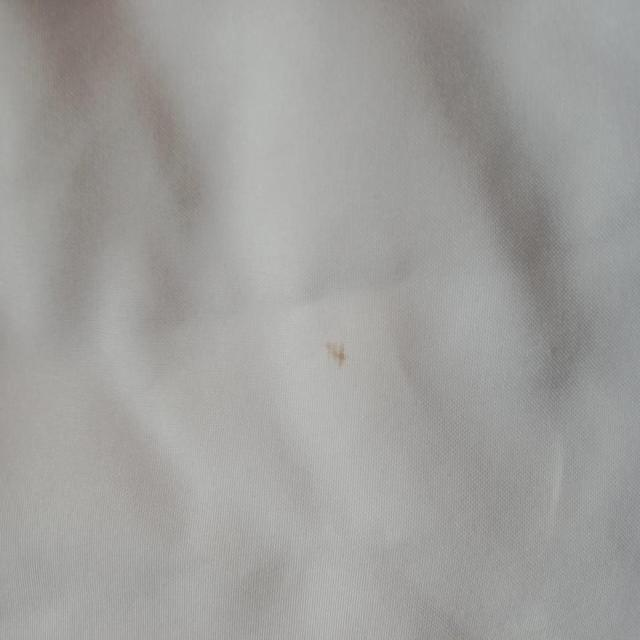stain: (314, 328, 359, 376)
